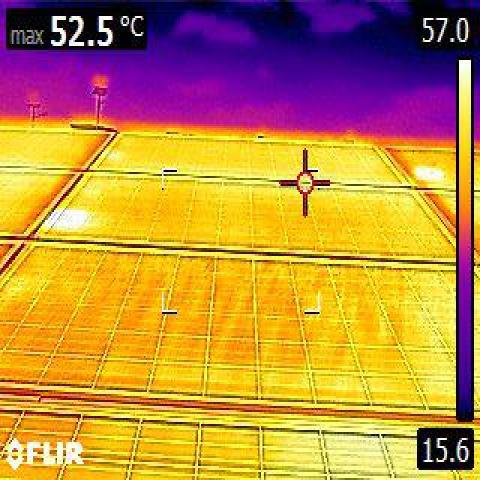fault: (54, 209, 89, 235)
